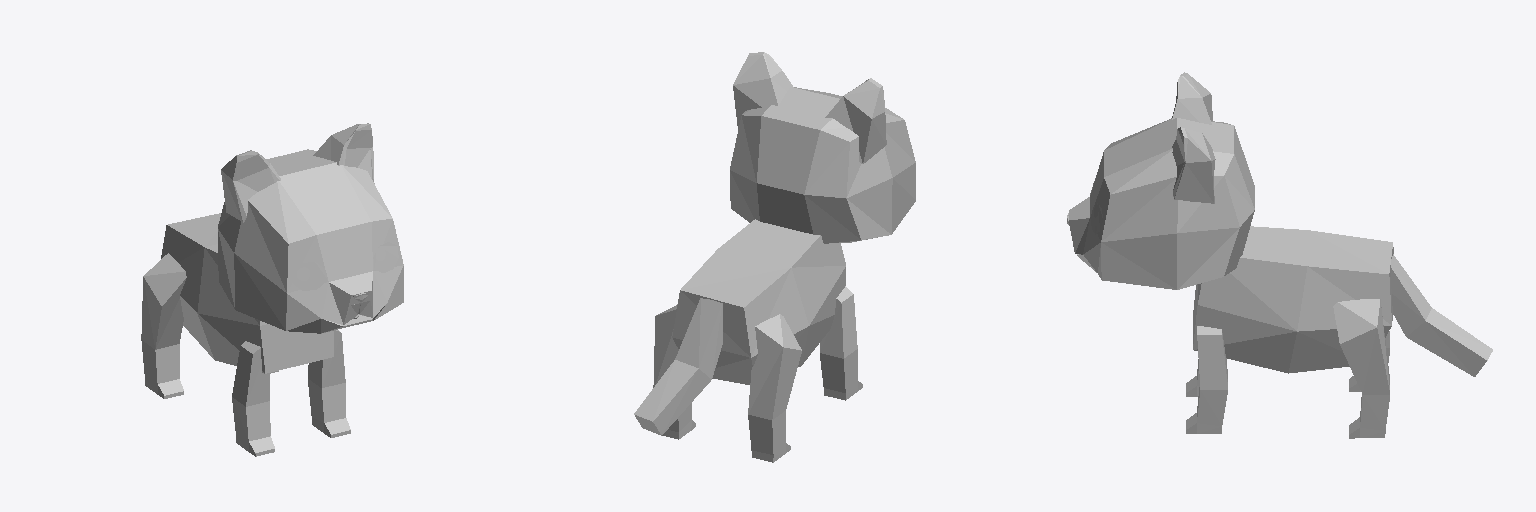
Rendered from Catson LiteVersion.obj.
3 renders of one model, left to right at view 1: azimuth 30°, elevation 25°; view 2: azimuth 150°, elevation 25°; view 3: azimuth 270°, elevation 25°, orthographic.
Visible parts, largest first — view 1: Cat.LiteVersion_Cube.008; view 2: Cat.LiteVersion_Cube.008; view 3: Cat.LiteVersion_Cube.008.
Part boxes in pixels (bbox=[...]): Cat.LiteVersion_Cube.008: bbox=[141, 123, 403, 456]; Cat.LiteVersion_Cube.008: bbox=[634, 52, 915, 462]; Cat.LiteVersion_Cube.008: bbox=[1067, 72, 1492, 438].
Size of the model in its own units: 1.83 by 3.7 by 4.63.